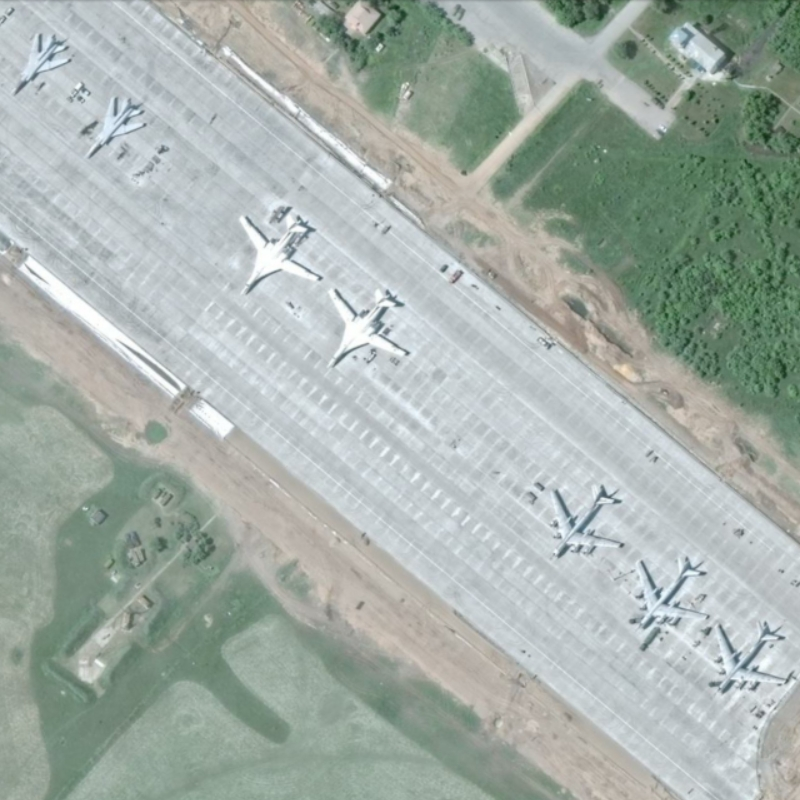A12: (81, 90, 149, 165), (9, 29, 73, 103)
A17: (630, 549, 714, 632), (546, 479, 628, 562), (711, 617, 789, 701)
A6: (323, 278, 413, 376), (232, 207, 326, 300)
